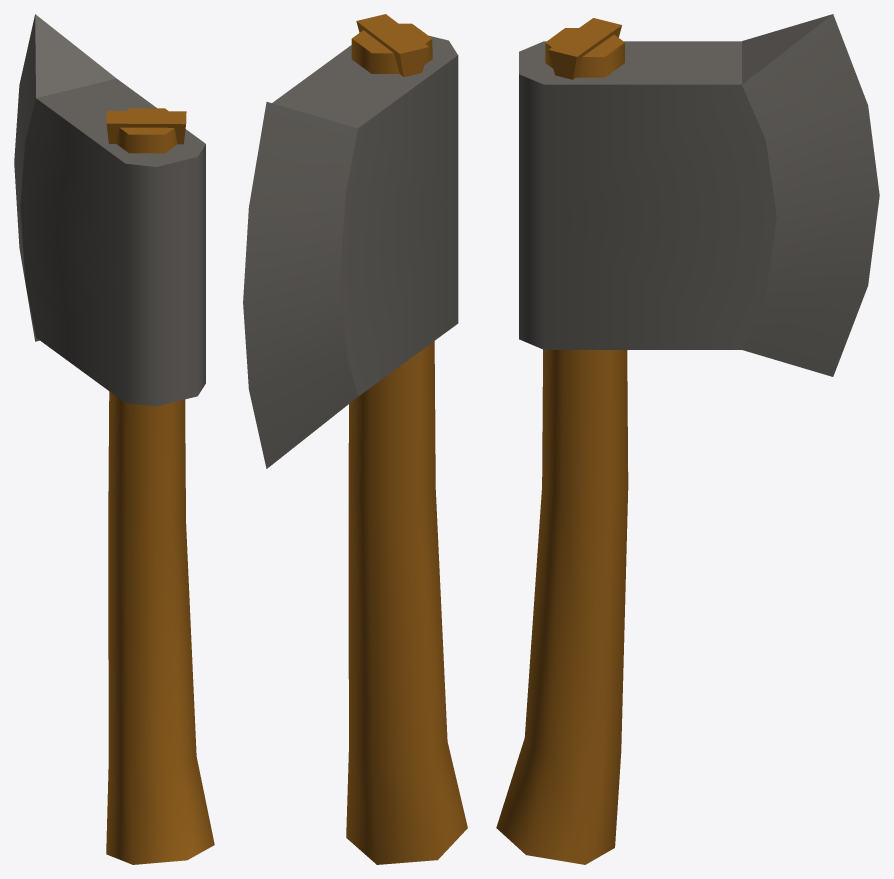
The model's file is Axe.fbx.
The picture shows the model from 3 angles, left to right: view 1: azimuth 30°, elevation 25°; view 2: azimuth 150°, elevation 25°; view 3: azimuth 270°, elevation 25°; orthographic projection. The views are drawn at different scales.
Visible parts, largest first — view 1: axe, axe.001; view 2: axe, axe.001; view 3: axe, axe.001.
Boxes of the visible parts, box(x1,y1,x2,y2) form: axe: box(14, 14, 205, 406); axe.001: box(106, 108, 214, 864); axe: box(243, 35, 458, 468); axe.001: box(346, 14, 467, 864); axe: box(519, 14, 879, 376); axe.001: box(496, 18, 628, 864).
Size of the model in its own units: 10.73 by 94.34 by 39.32.
